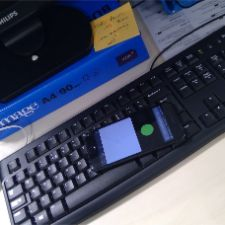focus: (139, 121, 156, 139)
